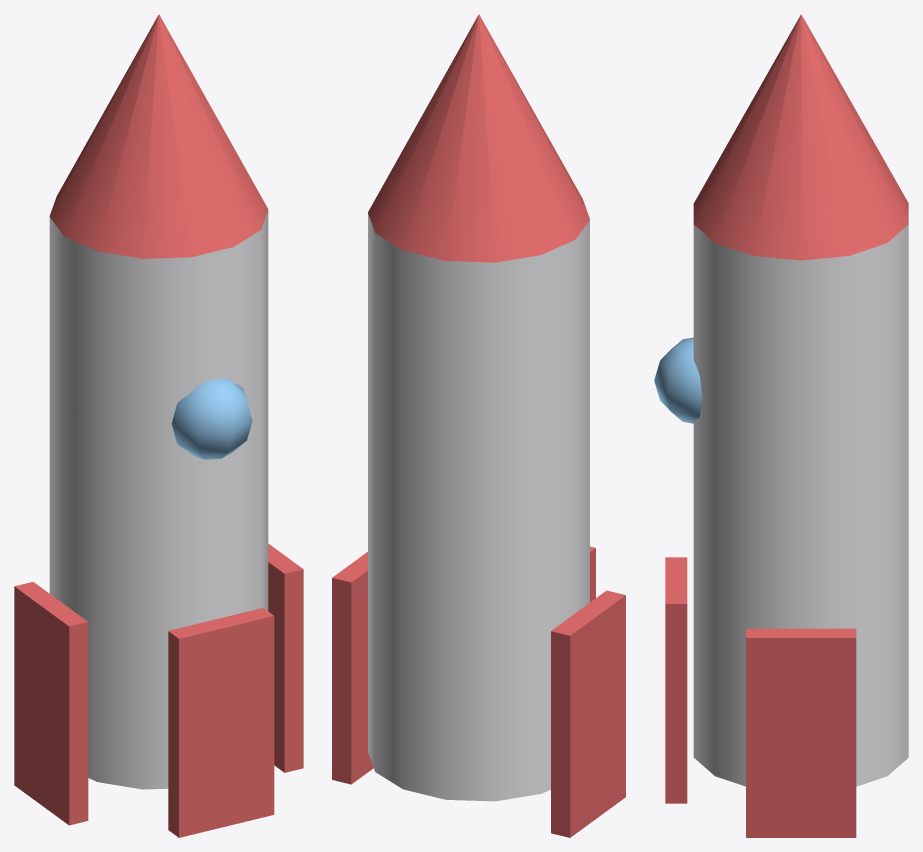
The model's file is rocket.glb.
3 renders of one model, left to right at view 1: azimuth 30°, elevation 25°; view 2: azimuth 150°, elevation 25°; view 3: azimuth 270°, elevation 25°, orthographic.
Bounding box in the file's own units: 0.74 × 2.3 × 0.6925.
